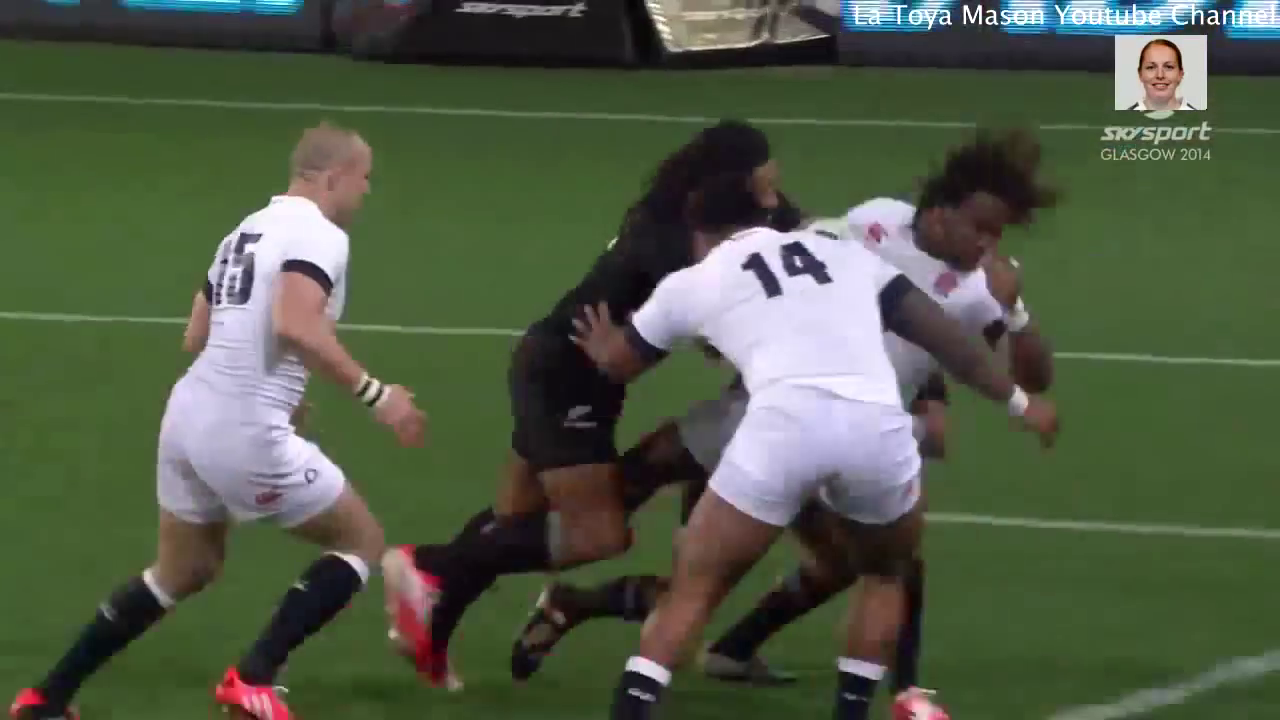player: (4, 117, 432, 720), (368, 116, 801, 695), (563, 216, 1060, 720), (806, 132, 1085, 397)
